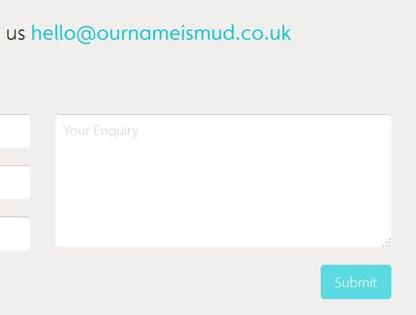button: (320, 264, 392, 299)
field: (52, 113, 394, 249)
